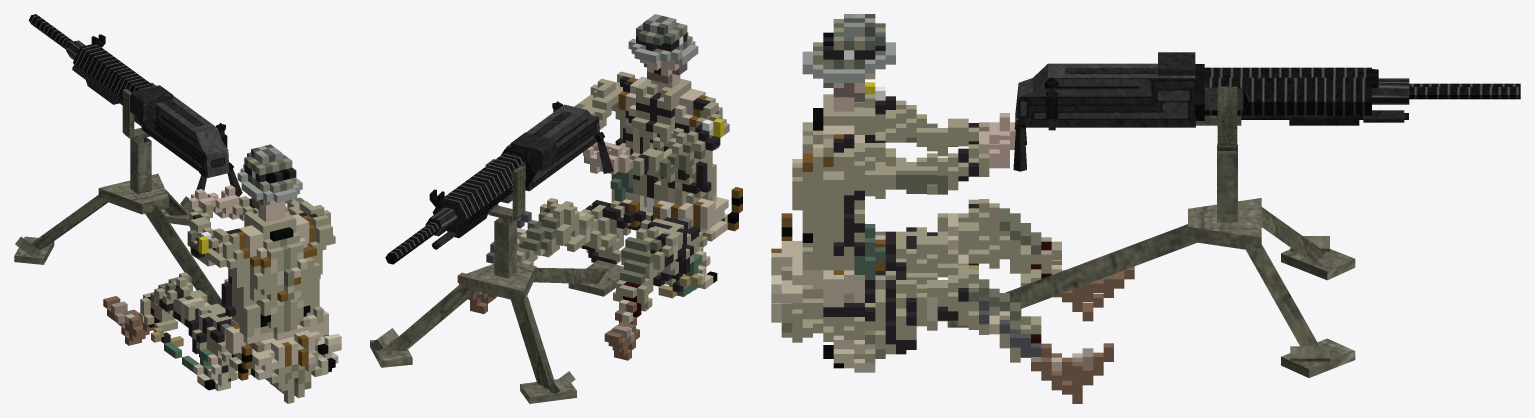
File: type92_hmg.glb
3 renders of one model, left to right at view 1: azimuth 30°, elevation 25°; view 2: azimuth 150°, elevation 25°; view 3: azimuth 270°, elevation 25°, orthographic. The views are drawn at different scales.
Parts seen in each view (by area): view 1: crew_soldier_SLOT_00_GUNNER, weapon_turret_0_type92_hmg.mesh, 00_chassis_type92_hmg_tripod.mesh; view 2: crew_soldier_SLOT_00_GUNNER, weapon_turret_0_type92_hmg.mesh, 00_chassis_type92_hmg_tripod.mesh; view 3: crew_soldier_SLOT_00_GUNNER, weapon_turret_0_type92_hmg.mesh, 00_chassis_type92_hmg_tripod.mesh.
Part boxes in pixels (left/top/right/bottom): crew_soldier_SLOT_00_GUNNER: left=103, top=144, right=341, bottom=403; weapon_turret_0_type92_hmg.mesh: left=28, top=14, right=242, bottom=196; 00_chassis_type92_hmg_tripod.mesh: left=14, top=137, right=225, bottom=308; crew_soldier_SLOT_00_GUNNER: left=457, top=14, right=742, bottom=360; weapon_turret_0_type92_hmg.mesh: left=385, top=101, right=613, bottom=264; 00_chassis_type92_hmg_tripod.mesh: left=370, top=217, right=623, bottom=403; crew_soldier_SLOT_00_GUNNER: left=771, top=14, right=1134, bottom=403; weapon_turret_0_type92_hmg.mesh: left=1013, top=52, right=1520, bottom=171; 00_chassis_type92_hmg_tripod.mesh: left=947, top=144, right=1355, bottom=377.
Bounding box in the file's own units: 0.9182 × 1.09 × 2.26.
37 materials, 1 textured.
